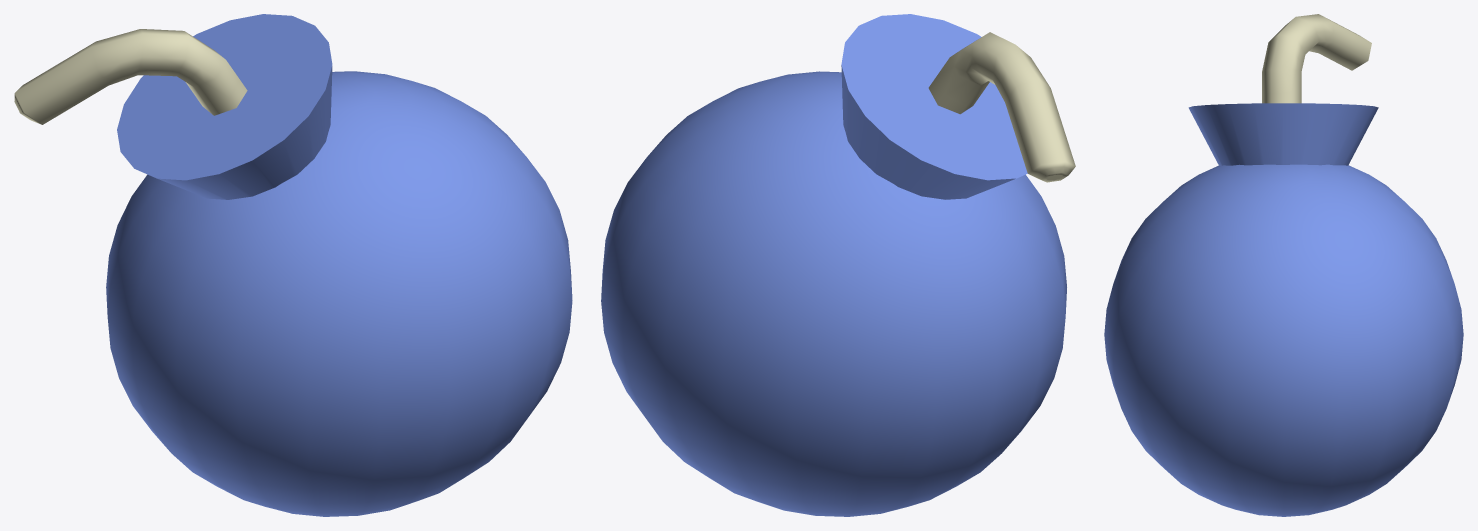
Rendered from MrBomb.fbx.
3 renders of one model, left to right at view 1: azimuth 30°, elevation 25°; view 2: azimuth 150°, elevation 25°; view 3: azimuth 270°, elevation 25°, orthographic. The views are drawn at different scales.
Parts seen in each view (by area): view 1: pCylinder5; view 2: pCylinder5; view 3: pCylinder5.
Boxes of the visible parts, x1,y1,x2,y2 form: pCylinder5: (14, 14, 572, 516); pCylinder5: (601, 14, 1075, 516); pCylinder5: (1104, 14, 1463, 516).
Size of the model in its own units: 1.05 by 1.03 by 0.8285.
